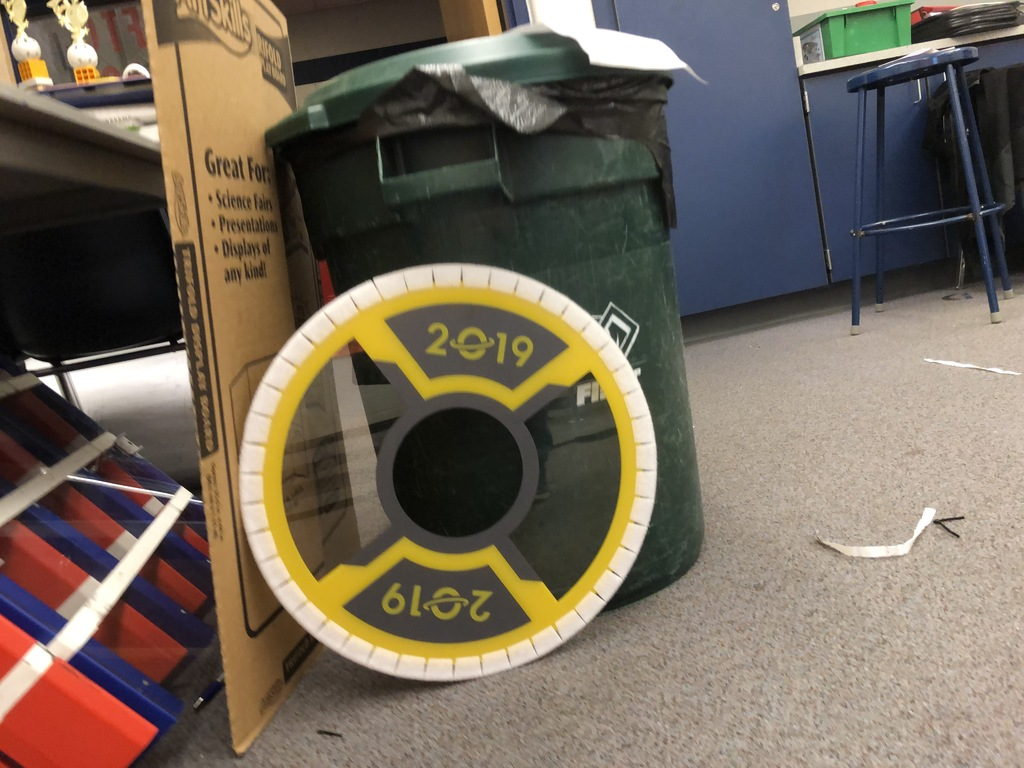hatch_panel: (201, 252, 687, 689)
